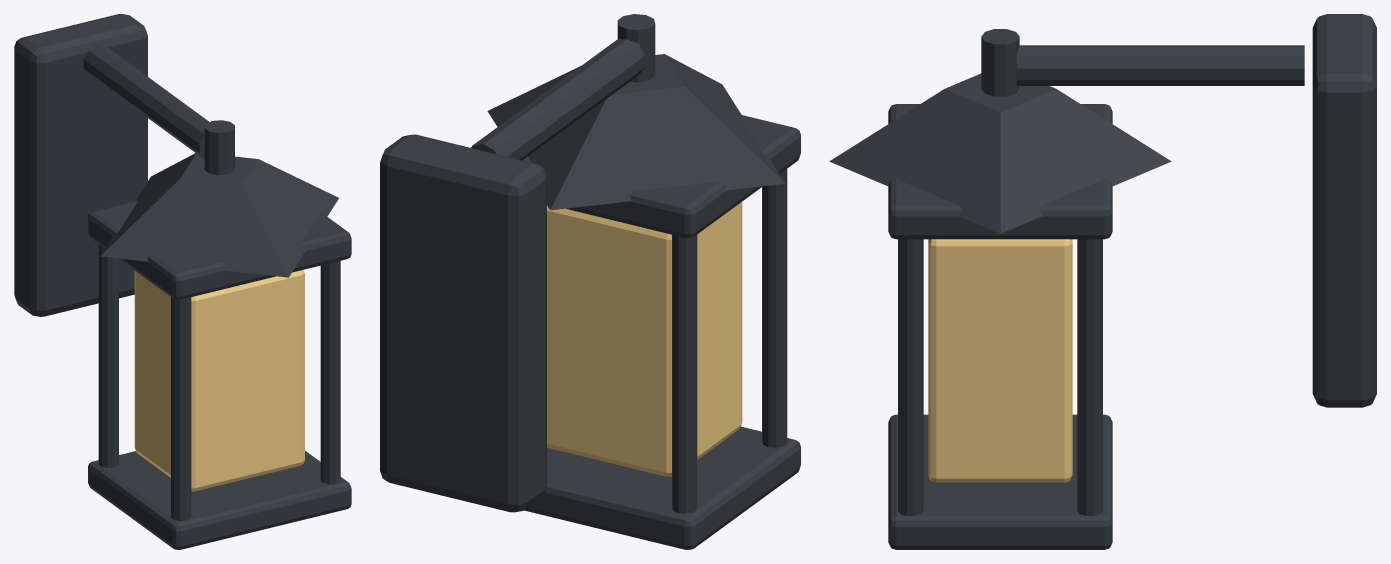
The model's file is cave_lantern.fbx.
The picture shows the model from 3 angles, left to right: view 1: azimuth 30°, elevation 25°; view 2: azimuth 150°, elevation 25°; view 3: azimuth 270°, elevation 25°; orthographic projection. The views are drawn at different scales.
Visible parts, largest first — view 1: cave_lantern; view 2: cave_lantern; view 3: cave_lantern.
Boxes of the visible parts, bbox=[...] form: cave_lantern: bbox=[14, 14, 351, 549]; cave_lantern: bbox=[380, 14, 800, 549]; cave_lantern: bbox=[829, 14, 1376, 549].
Size of the model in its own units: 0.214 by 0.3185 by 0.342.
